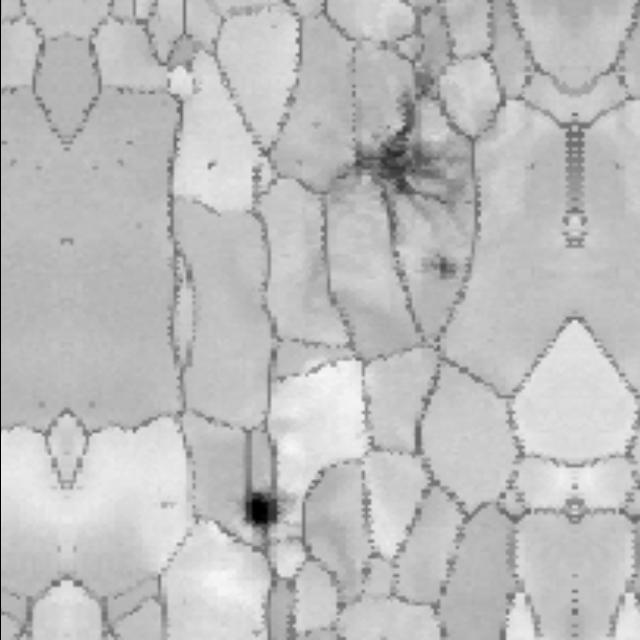good_void: (328, 75, 485, 226), (239, 478, 294, 534), (413, 244, 463, 283), (157, 494, 177, 512), (206, 156, 223, 176), (55, 234, 67, 246), (67, 234, 78, 246)
